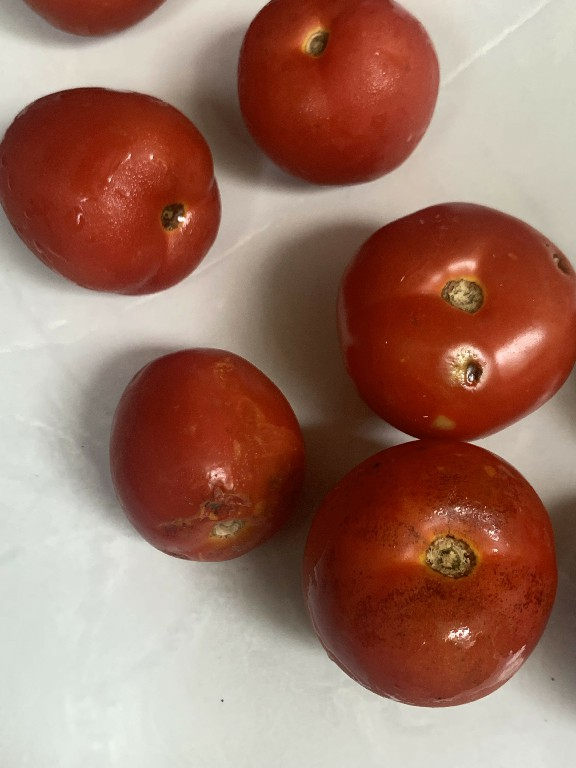NG: (333, 198, 576, 436), (102, 342, 312, 566)
OK: (296, 434, 562, 713), (0, 66, 228, 300), (232, 0, 457, 189)
